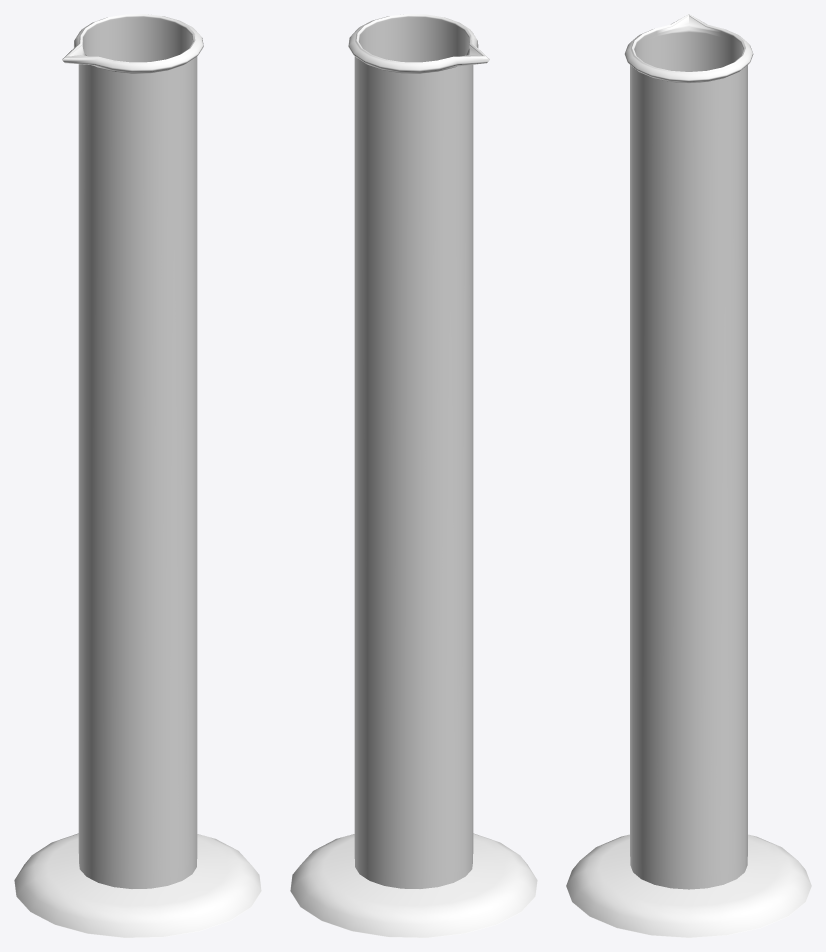
File: Graduated_Cylinder.fbx
3 renders of one model, left to right at view 1: azimuth 30°, elevation 25°; view 2: azimuth 150°, elevation 25°; view 3: azimuth 270°, elevation 25°, orthographic.
Visible parts, largest first — view 1: Graduated_Cylinder1; view 2: Graduated_Cylinder1; view 3: Graduated_Cylinder1.
Boxes of the visible parts, x1,y1,x2,y2 form: Graduated_Cylinder1: (14, 14, 261, 937); Graduated_Cylinder1: (290, 14, 537, 937); Graduated_Cylinder1: (566, 14, 811, 937).
Bounding box in the file's own units: 7.3 × 27.46 × 7.3.
